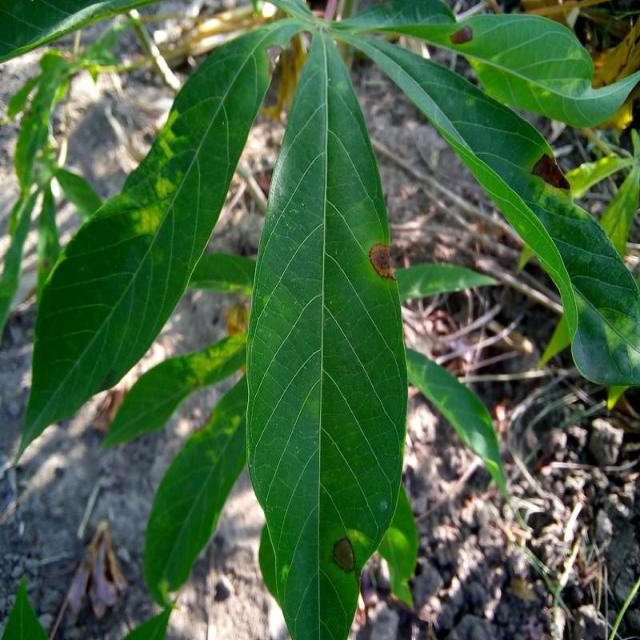cassava leaf: (12, 21, 274, 468), (244, 24, 410, 638)
